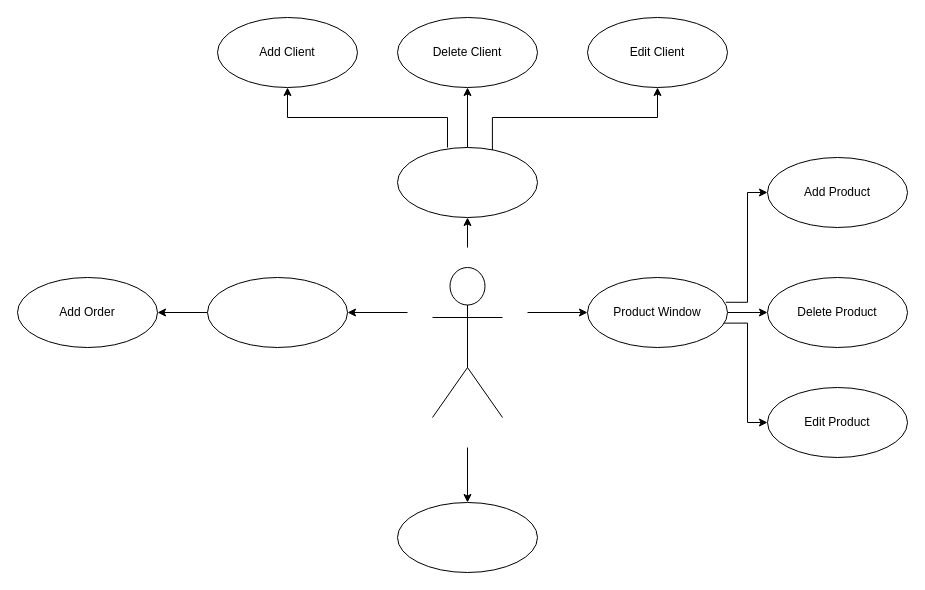
The diagram is 925 pixels wide and 590 high, and some of its shapes have lost their labels. The shapes that lost their labels are listed below. From the top down, each one's centre as x and y in pixels, then its label:
At pixel 467 182: "Client Window".
At pixel 277 312: "Order Window".
At pixel 467 342: "User".
At pixel 467 537: "View Bills".
